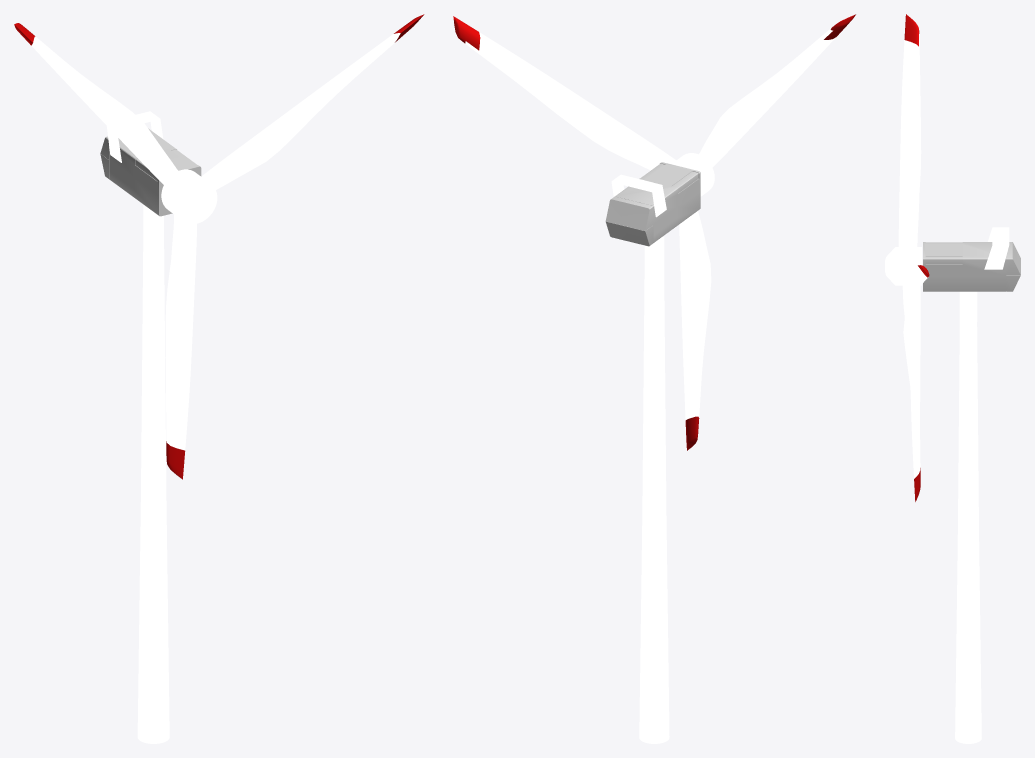
Rendered from windturbine.fbx.
3 views of the same model, side by side, from view 1: azimuth 30°, elevation 25°; view 2: azimuth 150°, elevation 25°; view 3: azimuth 270°, elevation 25° (orthographic). The views are drawn at different scales.
Visible parts, largest first — view 1: aspas, Cylinder005, Box001, Cylinder004; view 2: aspas, Cylinder005, Box001, Plane001; view 3: Cylinder005, aspas, Box001, Cylinder004, Plane001.
Part boxes in pixels (left/top/right/bottom): aspas: left=14, top=14, right=424, bottom=479; Cylinder005: left=137, top=204, right=169, bottom=743; Box001: left=100, top=128, right=201, bottom=216; Cylinder004: left=161, top=169, right=217, bottom=223; aspas: left=453, top=14, right=855, bottom=450; Cylinder005: left=639, top=235, right=669, bottom=743; Box001: left=605, top=162, right=700, bottom=246; Plane001: left=611, top=174, right=666, bottom=217; Cylinder005: left=955, top=291, right=981, bottom=743; aspas: left=898, top=14, right=929, bottom=501; Box001: left=923, top=242, right=1020, bottom=291; Cylinder004: left=885, top=247, right=921, bottom=285; Plane001: left=984, top=227, right=1009, bottom=269.
Bounding box in the file's own units: 108 × 193 × 36.47.
